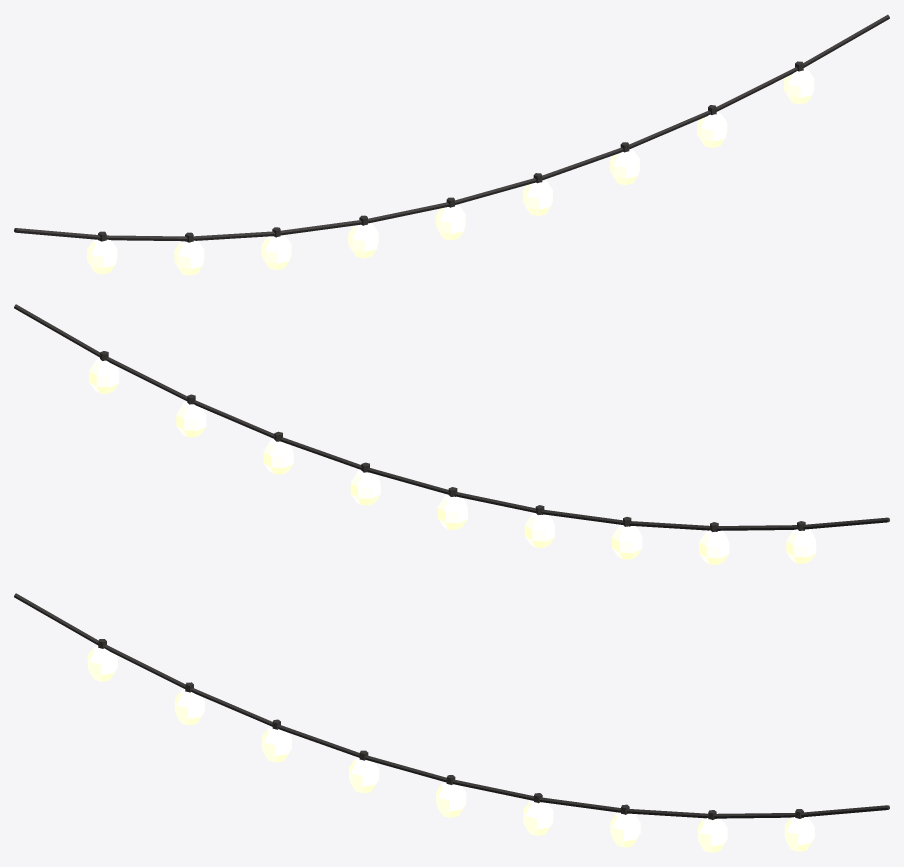
The model's file is string_lights.glb.
3 views of the same model, one above another, from view 1: azimuth 30°, elevation 25°; view 2: azimuth 150°, elevation 25°; view 3: azimuth 330°, elevation 25° (orthographic).
Parts seen in each view (by area): view 1: string_lights; view 2: string_lights; view 3: string_lights.
Part boxes in pixels (x1=…): string_lights: x1=14, y1=14, x2=889, y2=275; string_lights: x1=14, y1=304, x2=889, y2=564; string_lights: x1=14, y1=593, x2=889, y2=852.
Size of the model in its own units: 4.01 by 0.5205 by 0.1175.
